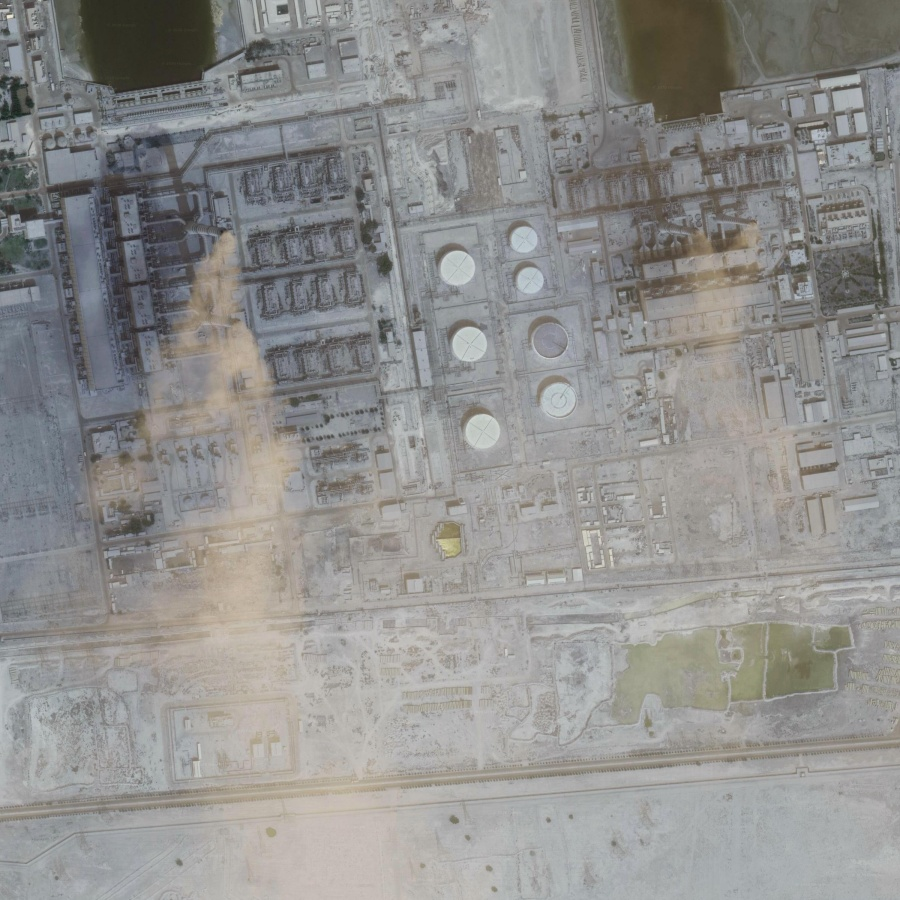PowerPlant: (63, 86, 593, 562)
